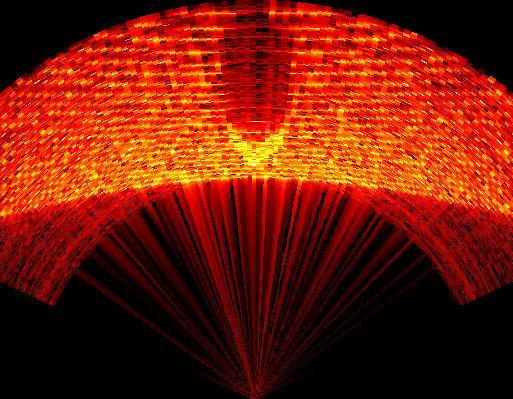box_crate: (218, 6, 302, 168)
